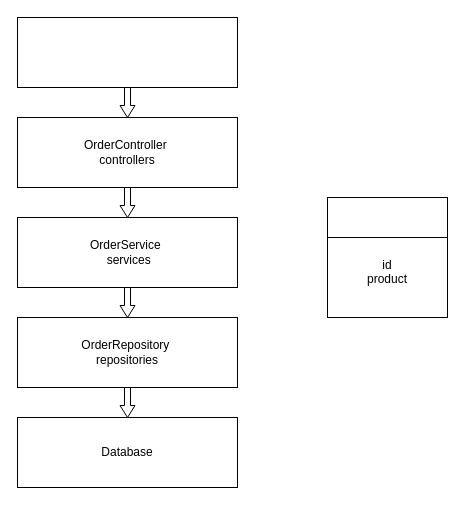
Image size: 465x505. Some labels were removed from this diagram. The shapes that lost their labels are listed below. From the top down, each one's centre as x and y in pixels, then its label:
At point 127,52: "Customer".
At point 387,217: "Order".
